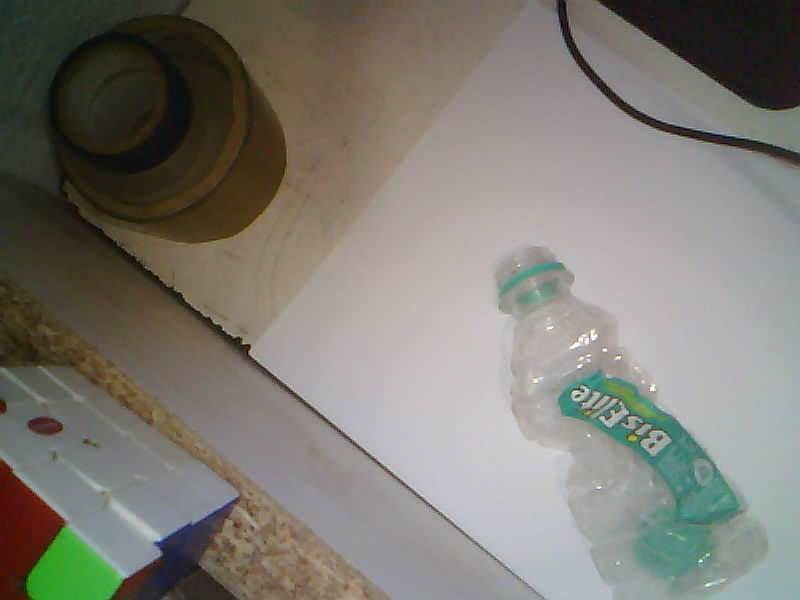non-biodegradable: (496, 247, 767, 599)
